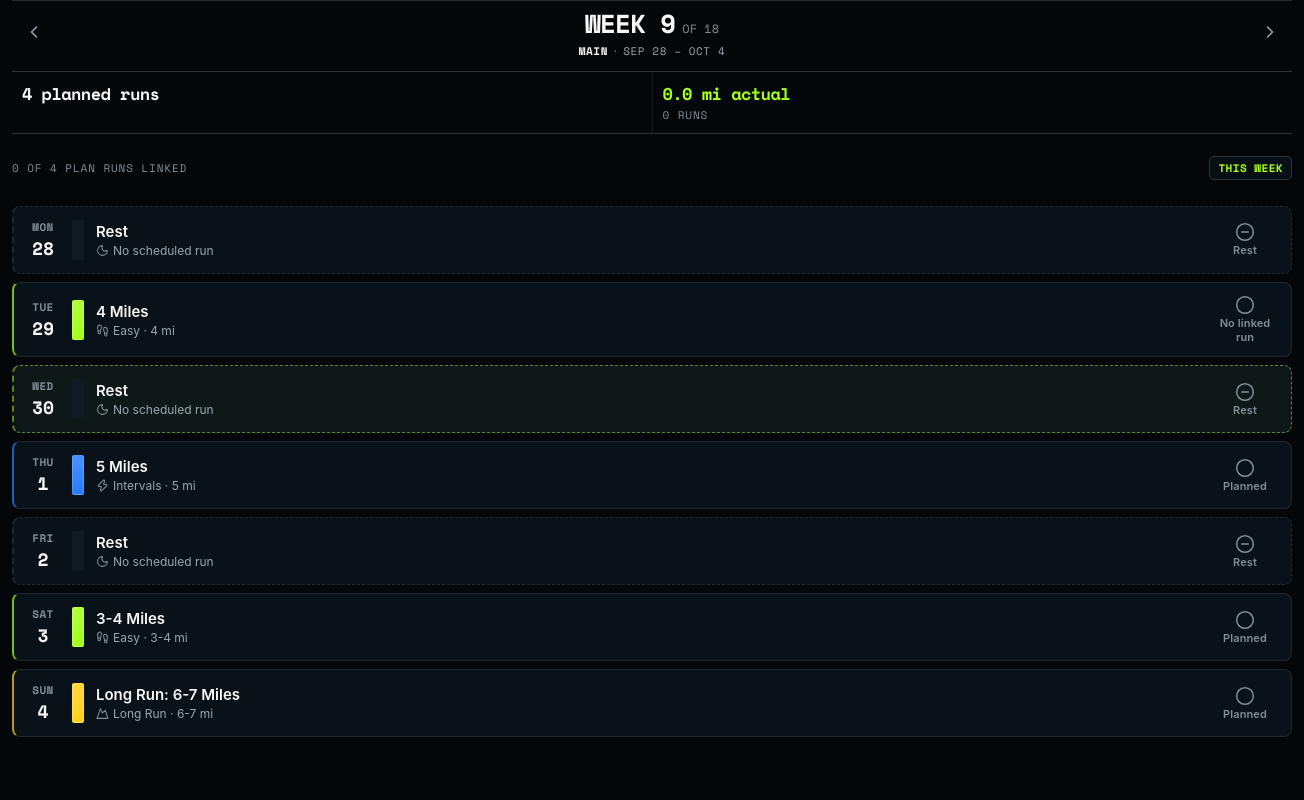
Test: PlanScreen week navigation › steps to the previous and next week
Expected: the heading reads "Week 9 of 18", 585,4 -> 719,42
Click the button named "Next week" at coordinates (1270, 34), box 1248,12 -> 1292,56
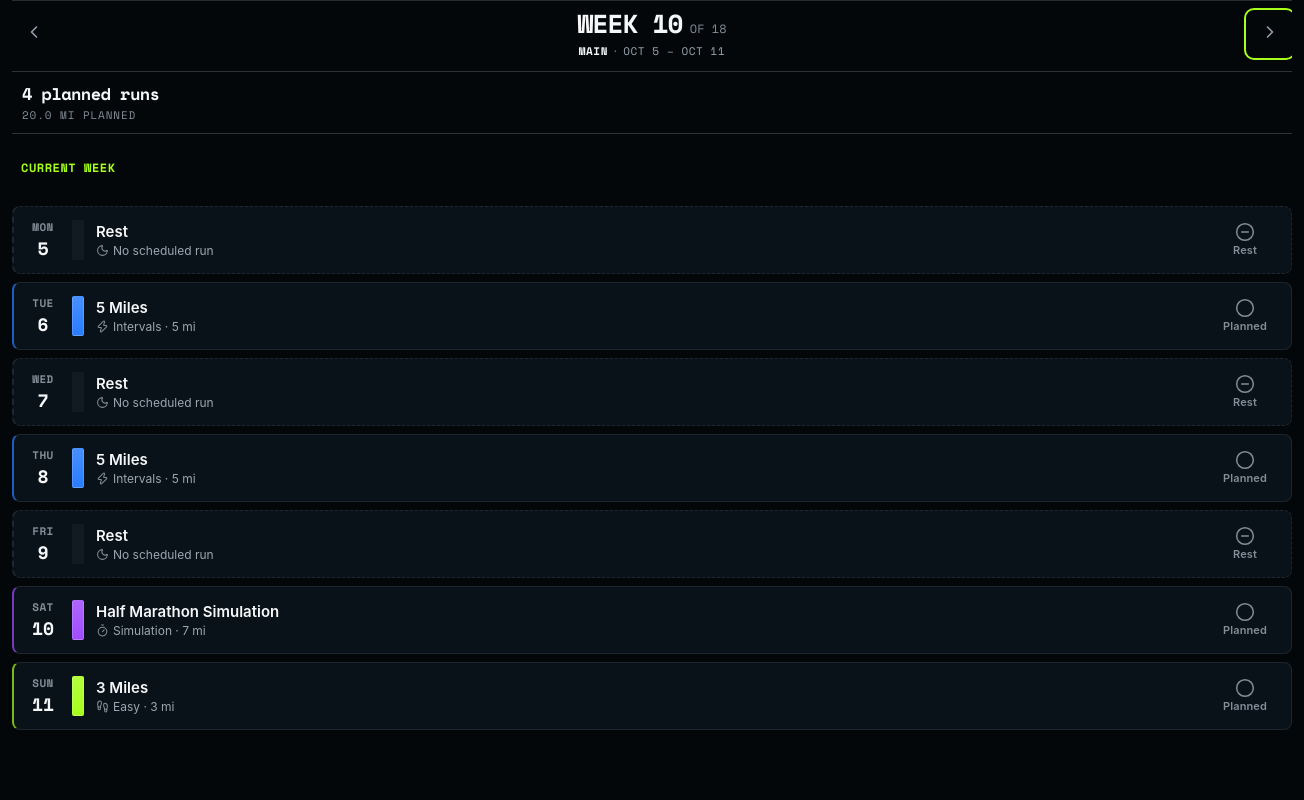
Expected: the heading reads "Week 10 of 18", 577,4 -> 726,42
Expected: the text "Oct 5 – Oct 11" is shown, 623,43 -> 725,59
Click the button named "Previous week" at coordinates (34, 34), box 12,12 -> 56,56
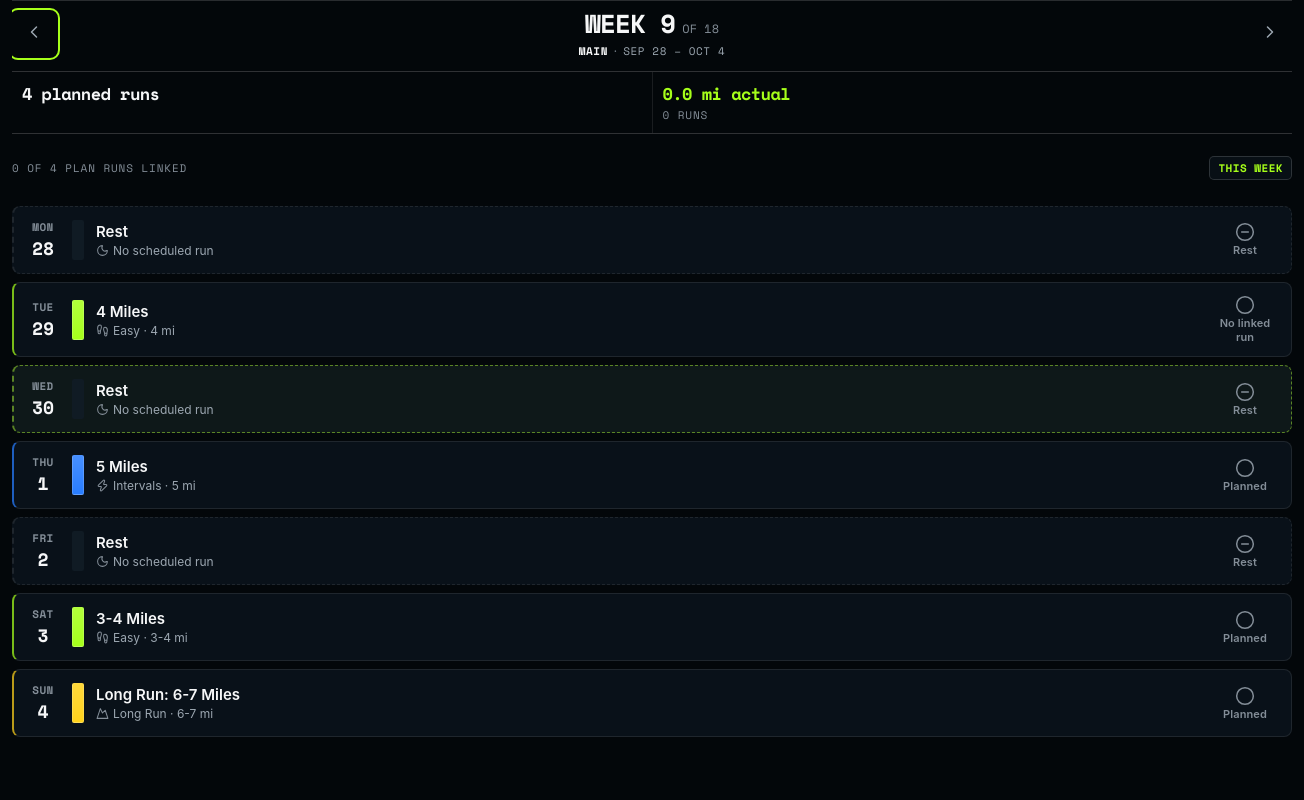
Click the button named "Previous week" at coordinates (34, 34), box 12,12 -> 56,56
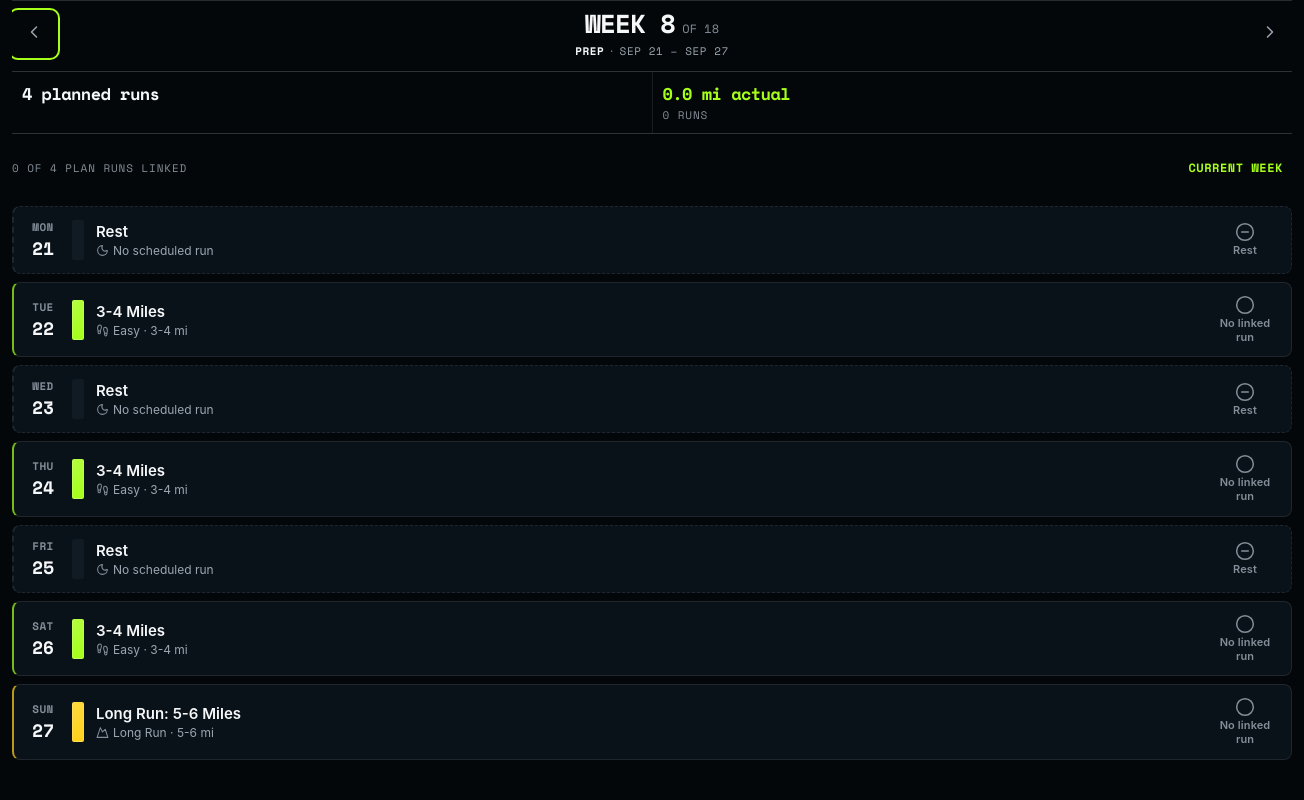
Expected: the heading reads "Week 8 of 18", 585,4 -> 719,42
